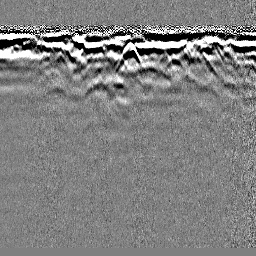cavity: (114, 39, 144, 70)
